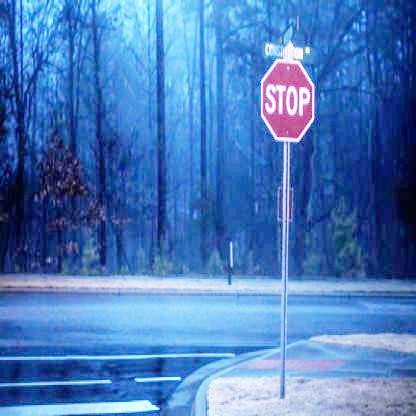Stop Sign: (258, 60, 316, 142)
